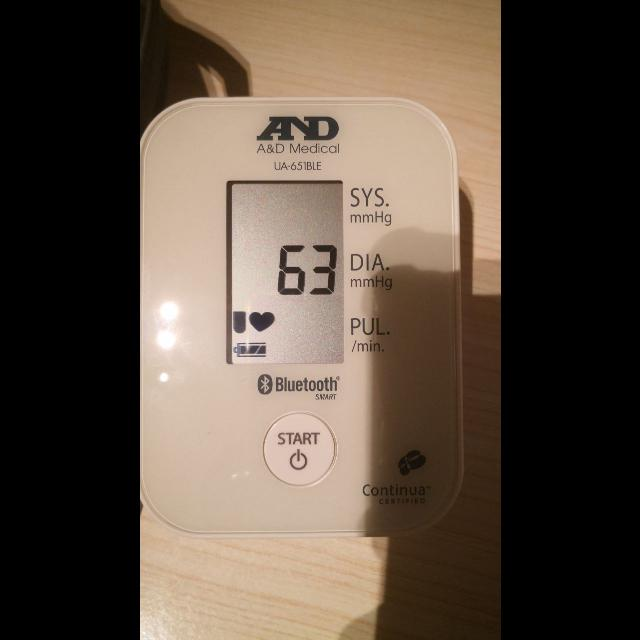Blood-Pressure-Monitor: (141, 95, 461, 537)
